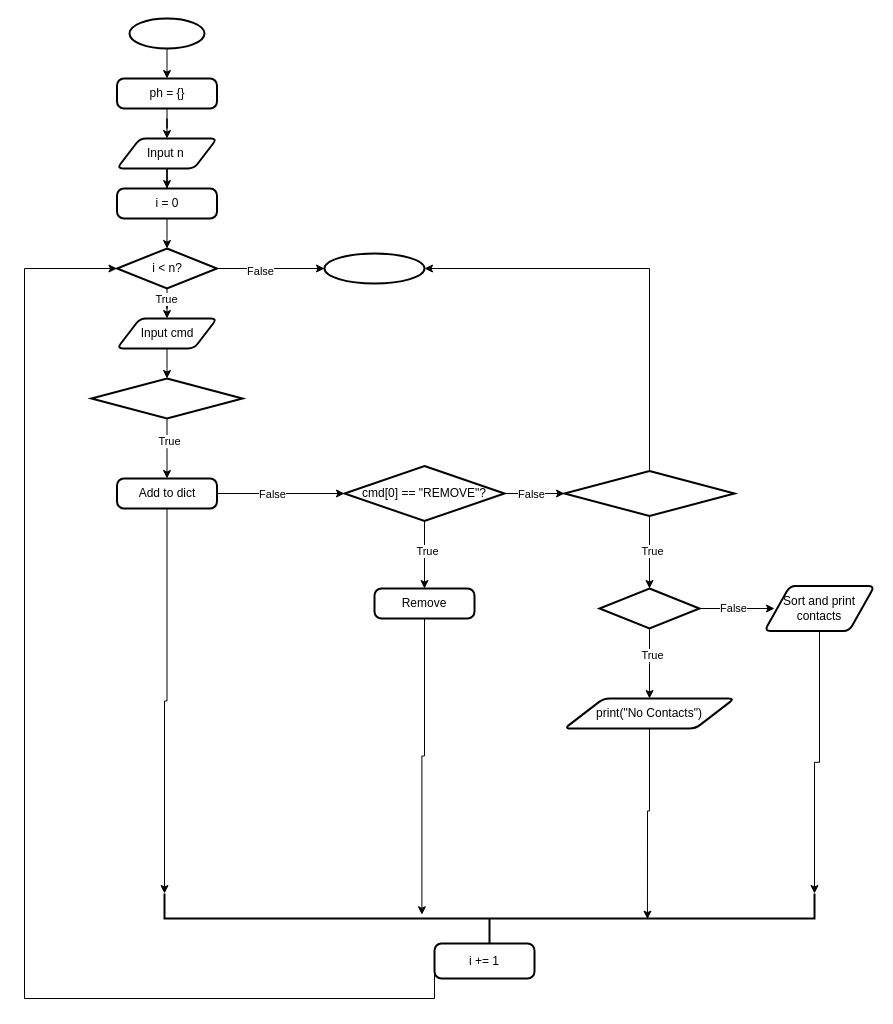
This 893x1024 diagram has some shape labels left out. Here are the shapes that lost their labels. From the top down, the box of each, then its label:
(128, 17, 205, 49): Start
(323, 252, 425, 284): Stop
(90, 377, 243, 419): cmd[0] == "ADD"?
(563, 470, 735, 516): cmd[0] == "DISPLAY"?
(598, 587, 700, 629): ph empty?
